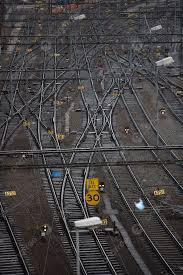Plastic: (131, 197, 148, 213)
